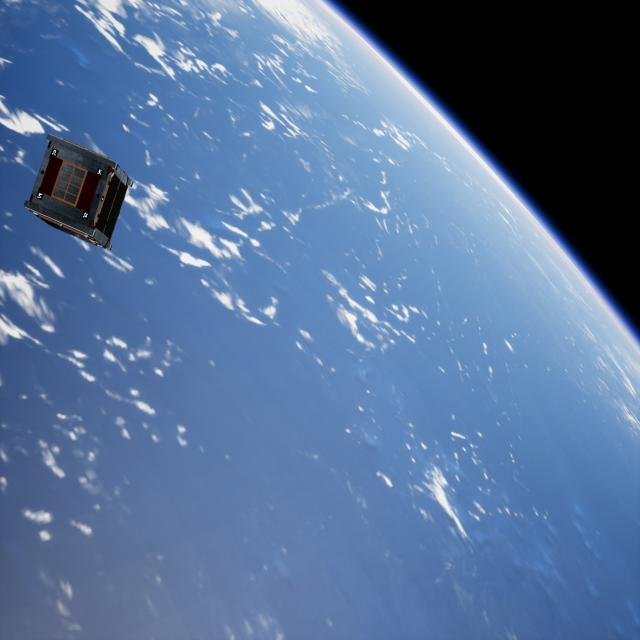medium_debris: (26, 122, 133, 250)
